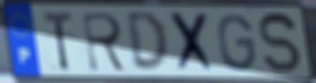D: (124, 10, 171, 75)
G: (216, 12, 258, 74)
R: (80, 10, 130, 74)
S: (257, 11, 303, 76)
T: (40, 9, 75, 73)
X: (168, 10, 219, 75)
